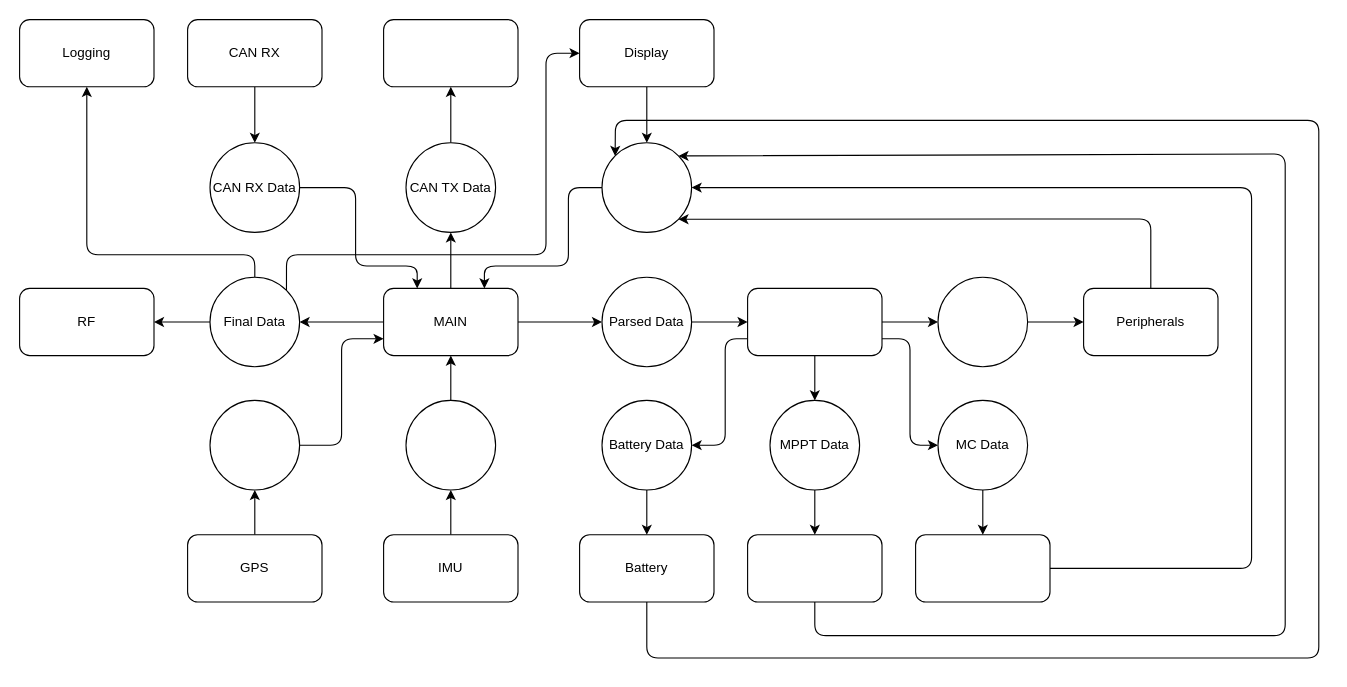
Image size: 1347x687. Some labels were removed from this diagram. The shapes that lost their labels are listed below. From the top down, each one's centre as x and y in pixels, then its label:
At point 450,52: "CAN TX".
At point 646,187: "Control Data".
At point 814,321: "Control".
At point 982,321: "Peripherals Data".
At point 254,444: "GPS Data".
At point 450,444: "IMU data".
At point 814,568: "MPPT".
At point 982,568: "MC".
